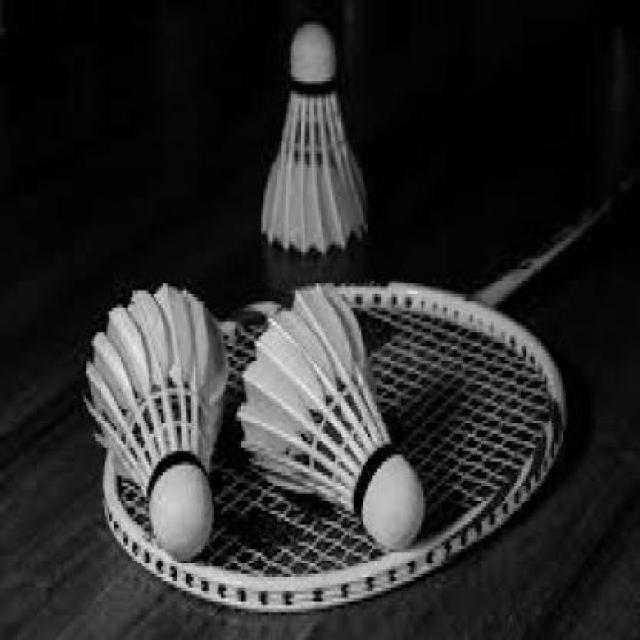Shuttlecock: (237, 283, 428, 551), (83, 276, 229, 566), (260, 17, 375, 261)
